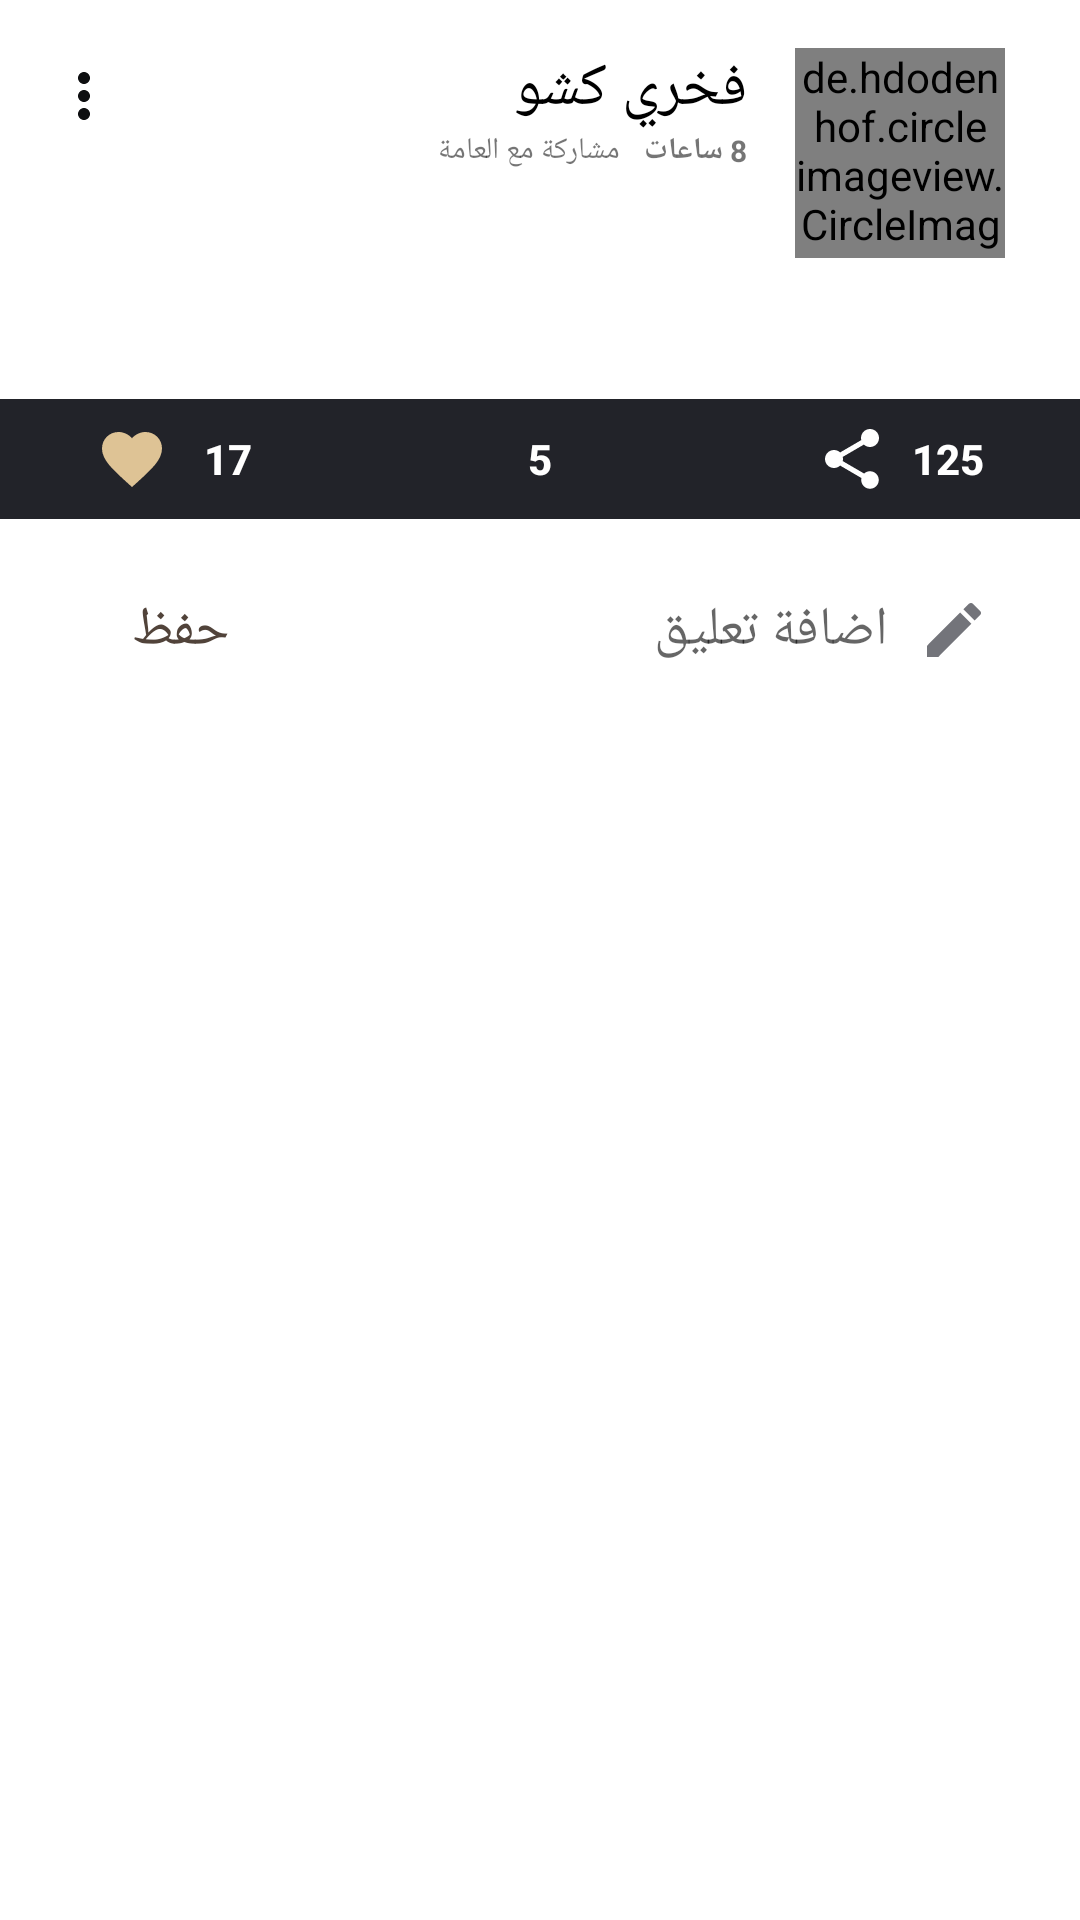

Point at icon controls on the screen. Image size 1080 x 1920, points as point (x, y).
options: point (84, 96)
